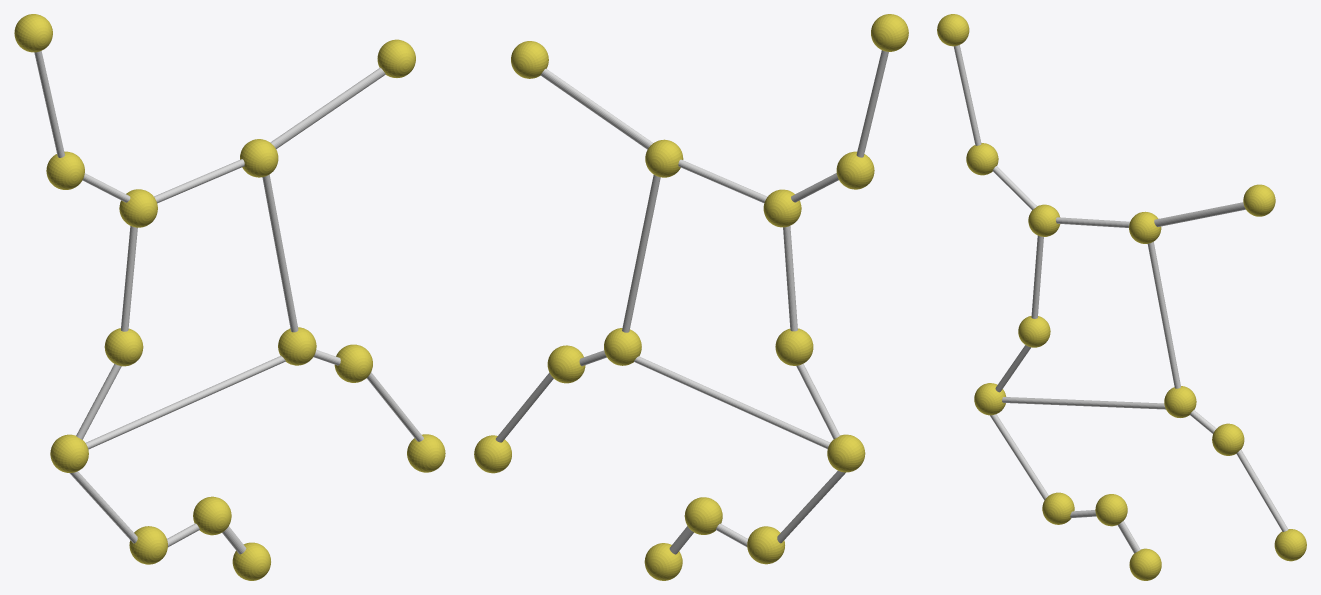
File: virgo.glb
3 views of the same model, side by side, from view 1: azimuth 30°, elevation 25°; view 2: azimuth 150°, elevation 25°; view 3: azimuth 330°, elevation 25° (orthographic). The views are drawn at different scales.
Parts seen in each view (by area): view 1: Mesh_Mesh_head_geo.001_lambert2SG.001; view 2: Mesh_Mesh_head_geo.001_lambert2SG.001; view 3: Mesh_Mesh_head_geo.001_lambert2SG.001.
Boxes of the visible parts, x1=… form: Mesh_Mesh_head_geo.001_lambert2SG.001: x1=14, y1=14, x2=445, y2=580; Mesh_Mesh_head_geo.001_lambert2SG.001: x1=474, y1=14, x2=908, y2=580; Mesh_Mesh_head_geo.001_lambert2SG.001: x1=937, y1=14, x2=1306, y2=580.
Bounding box in the file's own units: 129 × 178 × 12.93.
